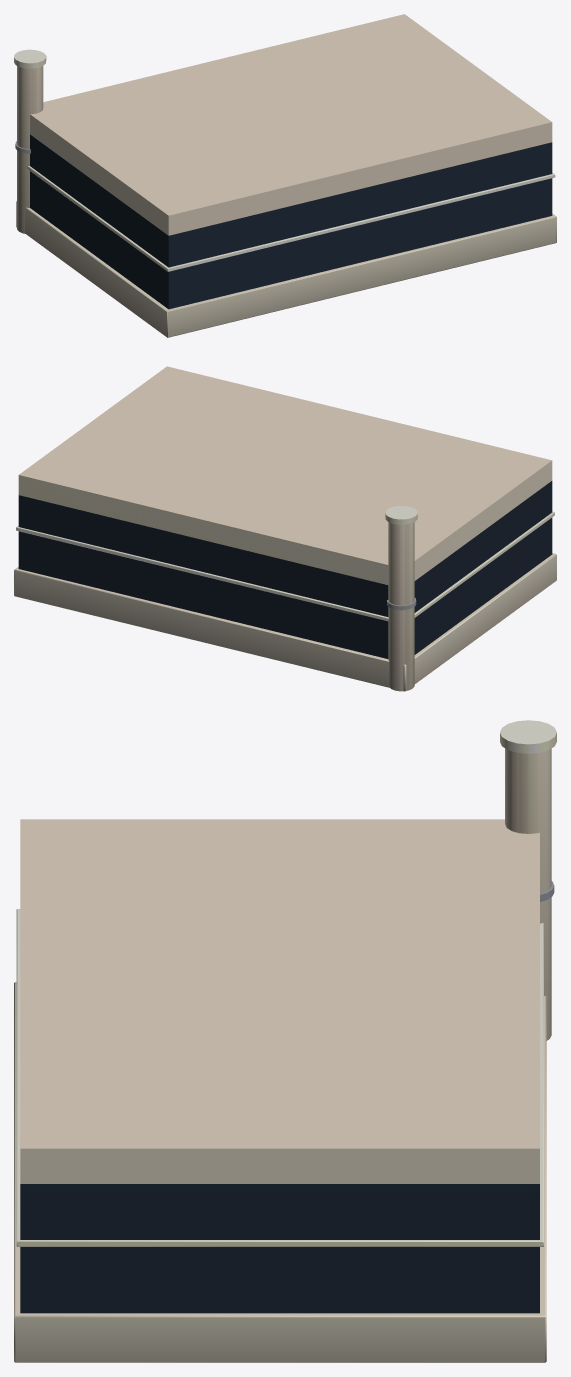
Rendered from uae-tower-podium.glb.
3 renders of one model, top to bottom at view 1: azimuth 30°, elevation 25°; view 2: azimuth 150°, elevation 25°; view 3: azimuth 270°, elevation 25°, orthographic. The views are drawn at different scales.
Parts seen in each view (by area): view 1: uae-tower-podium; view 2: uae-tower-podium; view 3: uae-tower-podium.
Part boxes in pixels (x1,y1,x2,y2): uae-tower-podium: (14,14,556,337); uae-tower-podium: (14,366,556,691); uae-tower-podium: (14,720,556,1362).
Bounding box in the file's own units: 6.18 × 2.58 × 4.18.
